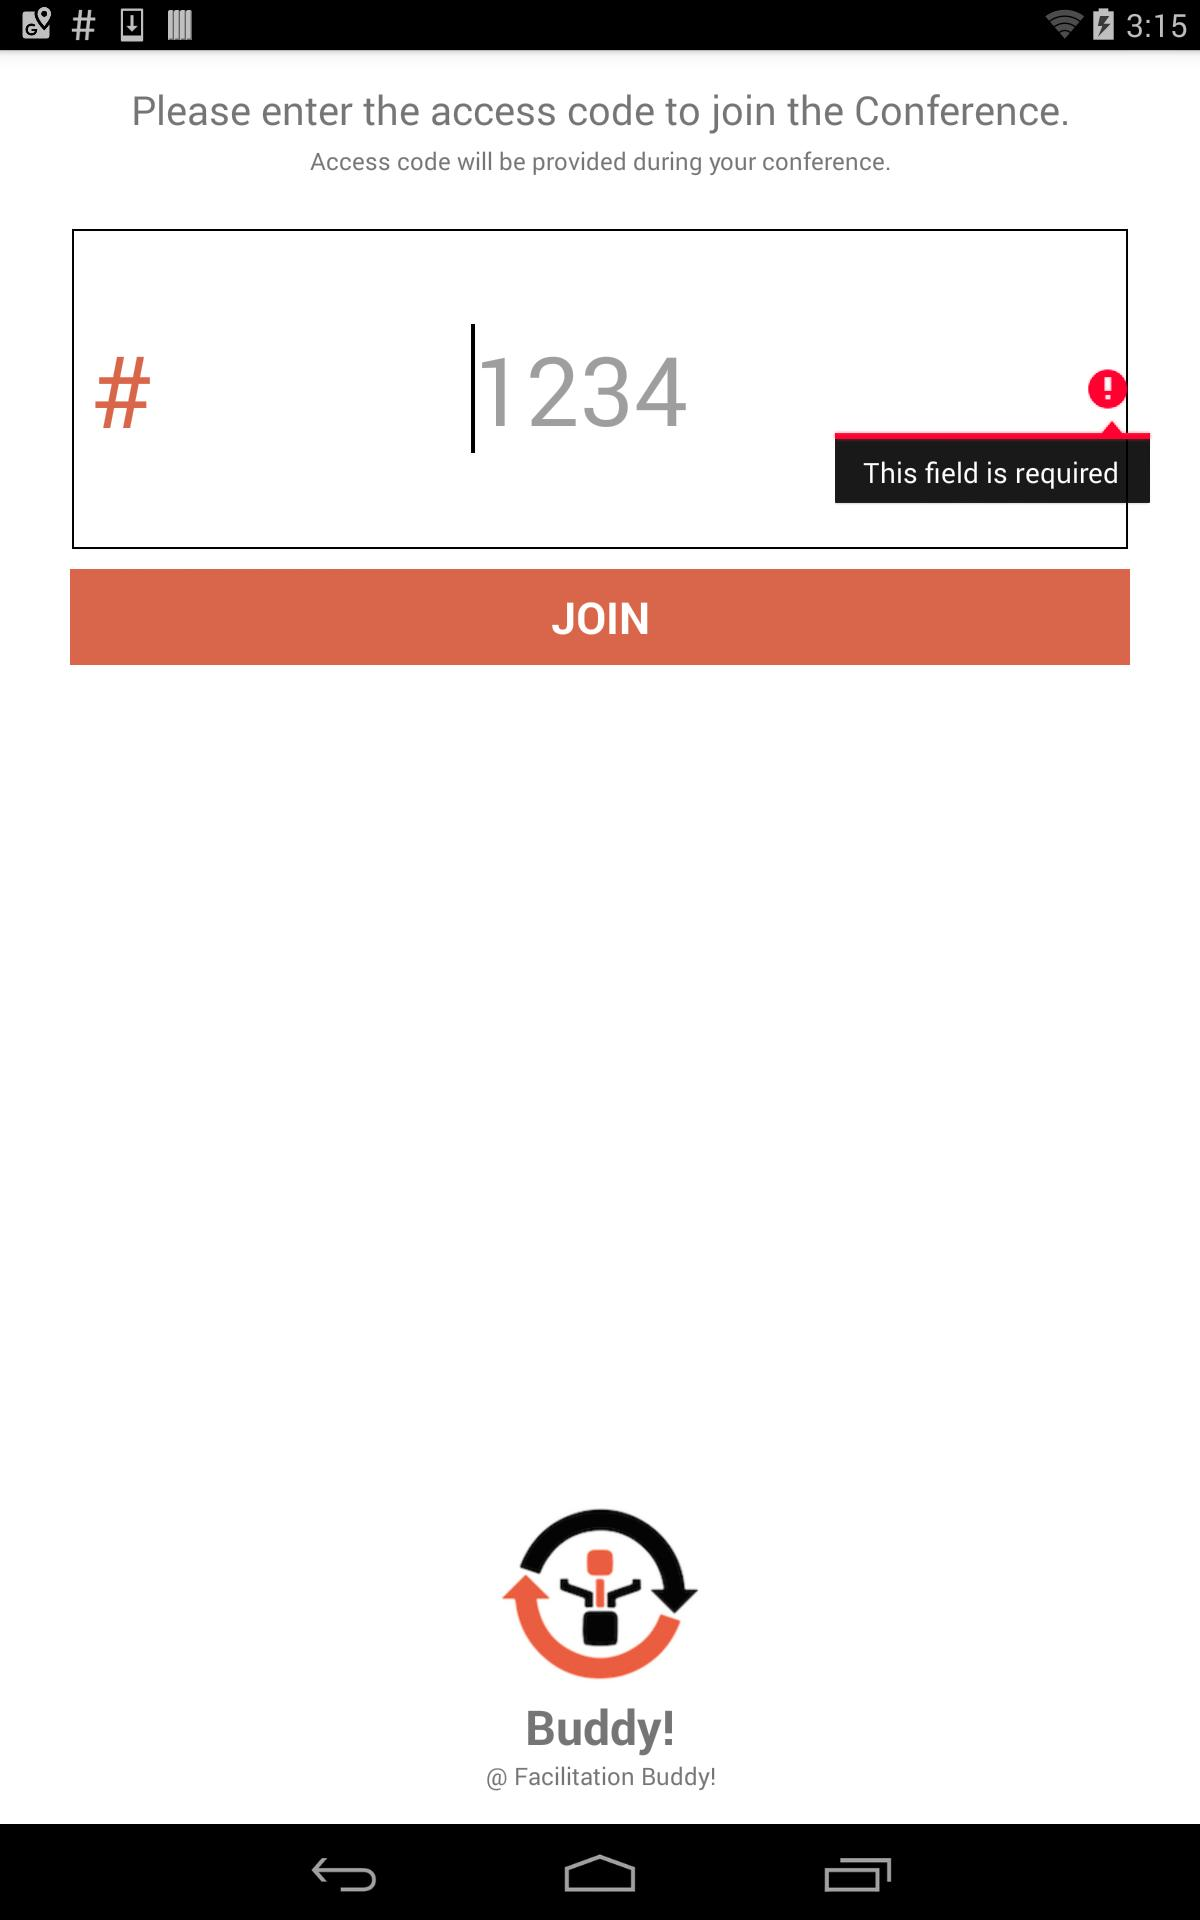android.widget.Button: (71, 570, 1129, 665)
android.widget.EditText: (72, 229, 1128, 549)
android.widget.FrameLayout: (0, 0, 1200, 1825), (0, 50, 1200, 1825)
android.widget.ImageView: (32, 1494, 1168, 1695)
android.widget.LinearLayout: (0, 0, 1200, 1825), (0, 50, 1200, 1825), (32, 82, 1168, 1791), (32, 82, 1168, 665)
android.widget.RelativeLayout: (0, 50, 1200, 1825), (32, 209, 1168, 570)
android.widget.ScrollView: (32, 82, 1168, 1791)
android.widget.TextView: (93, 209, 1168, 570), (32, 82, 1168, 135), (32, 144, 1168, 177), (525, 1695, 675, 1760), (485, 1760, 715, 1791)
